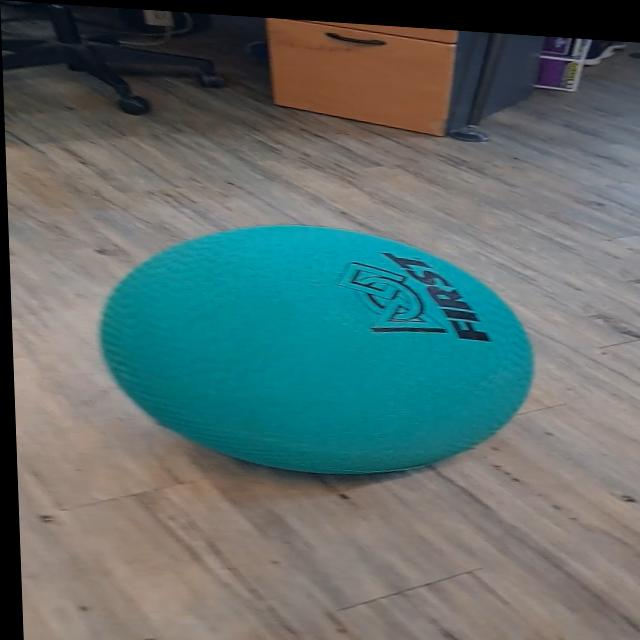ALGAE: (92, 209, 540, 489)
